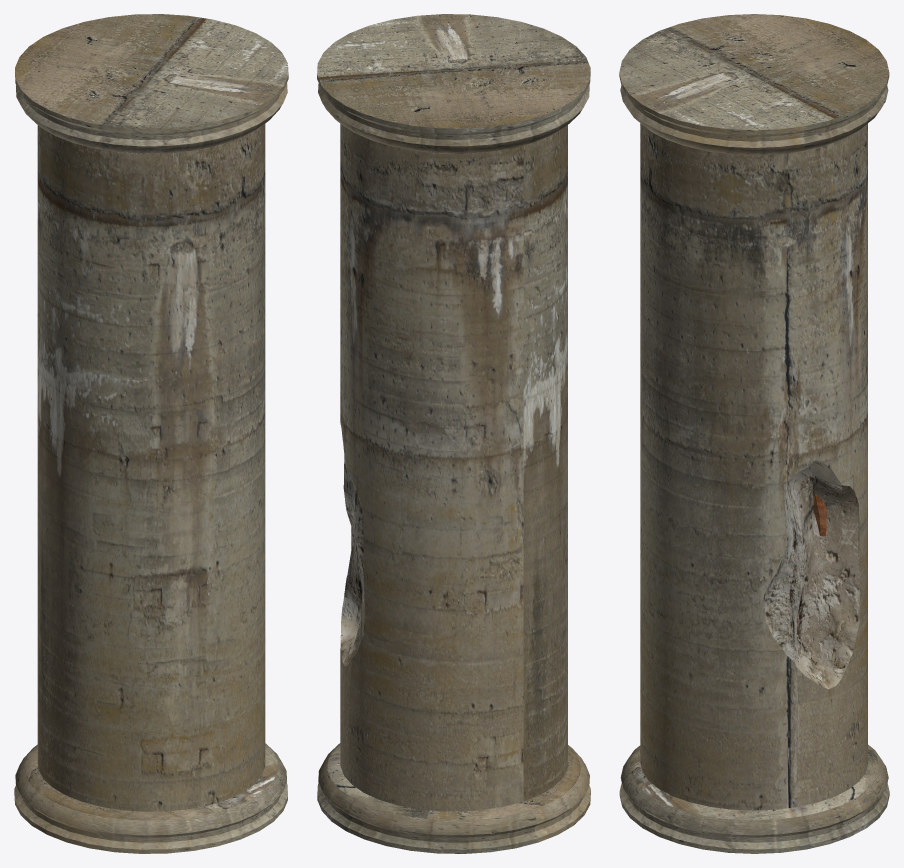
Rendered from pillar3.fbx.
The picture shows the model from 3 angles, left to right: view 1: azimuth 30°, elevation 25°; view 2: azimuth 150°, elevation 25°; view 3: azimuth 270°, elevation 25°; orthographic projection.
Parts seen in each view (by area): view 1: Pillar; view 2: Pillar; view 3: Pillar.
Boxes of the visible parts, left/top/right/bottom form: Pillar: left=14, top=14, right=288, bottom=853; Pillar: left=317, top=14, right=590, bottom=853; Pillar: left=619, top=14, right=889, bottom=853.
Size of the model in its own units: 242 by 702 by 237.
